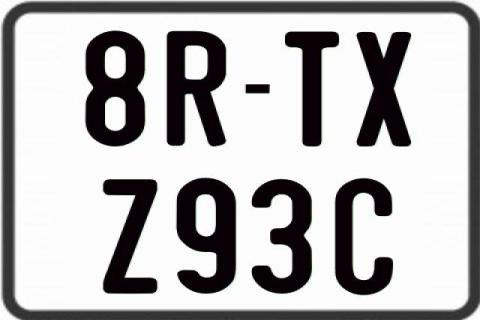0: (175, 178, 240, 294), (250, 180, 314, 294), (84, 28, 145, 146)
C: (335, 178, 396, 296)
R: (165, 31, 230, 146)
T: (284, 29, 340, 144)
X: (354, 32, 409, 151)
Z: (101, 177, 158, 292)
